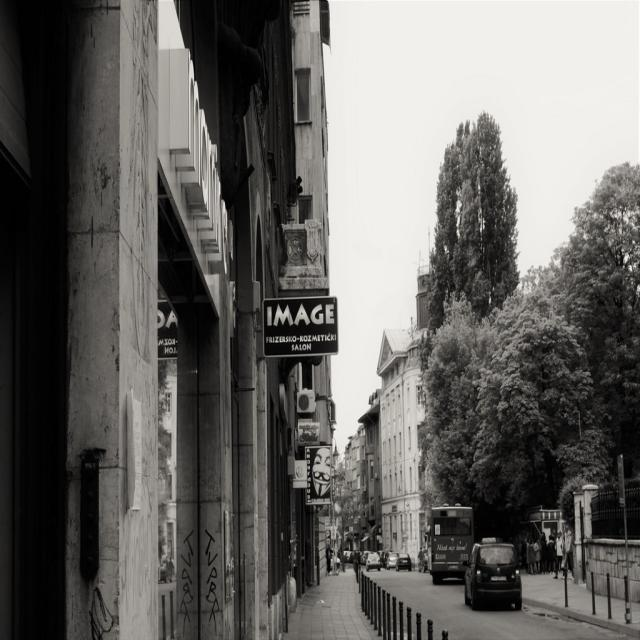body: (306, 445, 332, 500), (559, 523, 575, 579), (552, 529, 566, 580), (538, 534, 549, 574), (552, 530, 562, 572), (526, 537, 536, 574), (546, 534, 554, 574), (343, 548, 361, 565), (533, 536, 541, 573), (526, 536, 532, 574), (325, 544, 332, 574), (416, 544, 423, 572), (421, 544, 427, 570), (384, 547, 390, 568), (539, 530, 547, 540), (567, 562, 571, 573)
